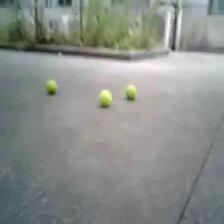tennis: (96, 89, 113, 106), (45, 79, 57, 93), (125, 86, 137, 99)
